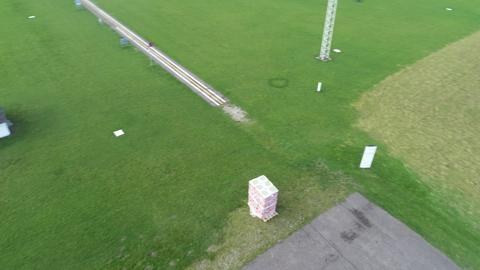RockwoolPallet: (247, 175, 279, 220)
